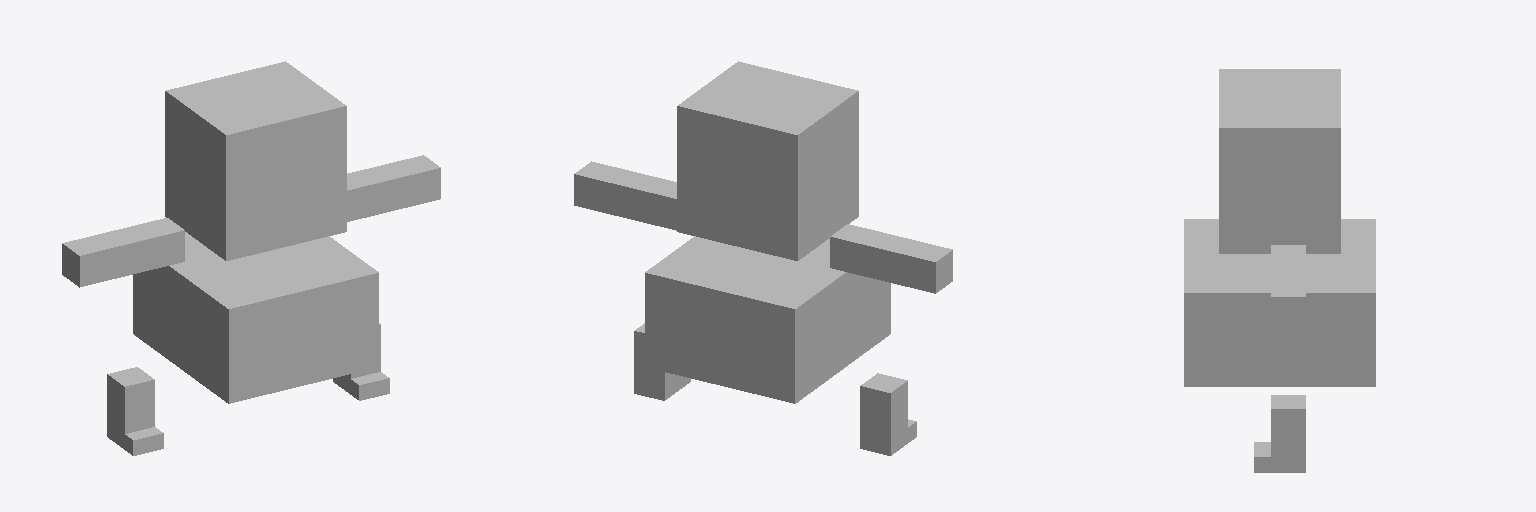
Rendered from piggy.obj.
3 views of the same model, side by side, from view 1: azimuth 30°, elevation 25°; view 2: azimuth 150°, elevation 25°; view 3: azimuth 270°, elevation 25° (orthographic).
Parts seen in each view (by area): view 1: Torso_piggy.004, Head_piggy.001, ArmR_piggy.003, ArmL_piggy.002, LegR_piggy, LegL_piggy.005; view 2: Torso_piggy.004, Head_piggy.001, ArmR_piggy.003, ArmL_piggy.002, LegR_piggy, LegL_piggy.005; view 3: Torso_piggy.004, Head_piggy.001, LegL_piggy.005, ArmL_piggy.002.
Part boxes in pixels (left/top/right/bottom): Torso_piggy.004: left=133, top=232, right=378, bottom=403; Head_piggy.001: left=165, top=61, right=346, bottom=260; ArmR_piggy.003: left=62, top=218, right=184, bottom=287; ArmL_piggy.002: left=347, top=155, right=440, bottom=221; LegR_piggy: left=107, top=367, right=163, bottom=455; LegL_piggy.005: left=333, top=323, right=389, bottom=400; Torso_piggy.004: left=645, top=236, right=890, bottom=403; Head_piggy.001: left=677, top=61, right=858, bottom=260; ArmR_piggy.003: left=830, top=224, right=952, bottom=293; ArmL_piggy.002: left=574, top=161, right=676, bottom=230; LegR_piggy: left=860, top=373, right=916, bottom=455; LegL_piggy.005: left=634, top=323, right=690, bottom=400; Torso_piggy.004: left=1184, top=219, right=1375, bottom=386; Head_piggy.001: left=1219, top=69, right=1340, bottom=253; LegL_piggy.005: left=1254, top=395, right=1305, bottom=472; ArmL_piggy.002: left=1271, top=245, right=1305, bottom=327.
Bounding box in the file's own units: 2.4 × 2 × 1.1.